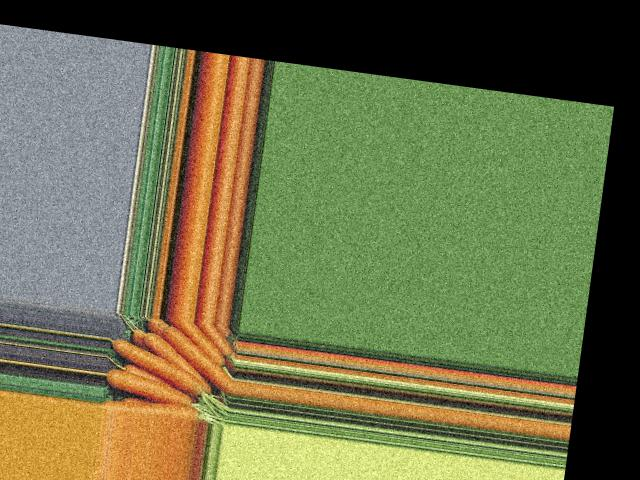carrot: (154, 322, 238, 394)
